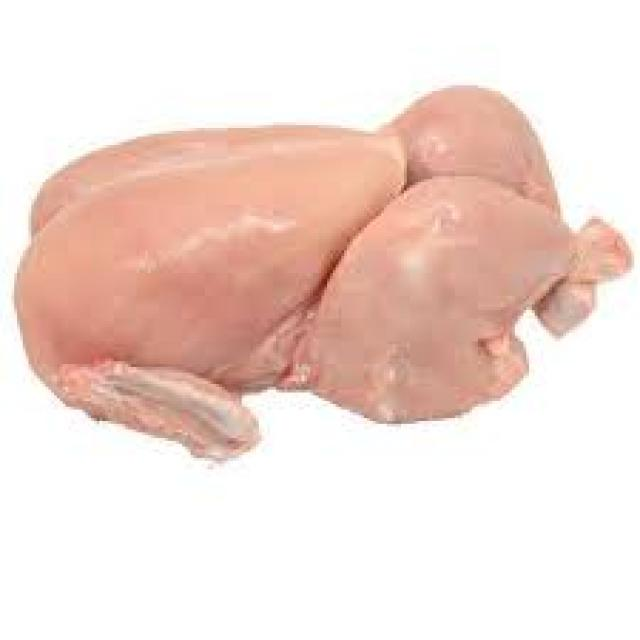Coriander: (3, 79, 640, 468)
